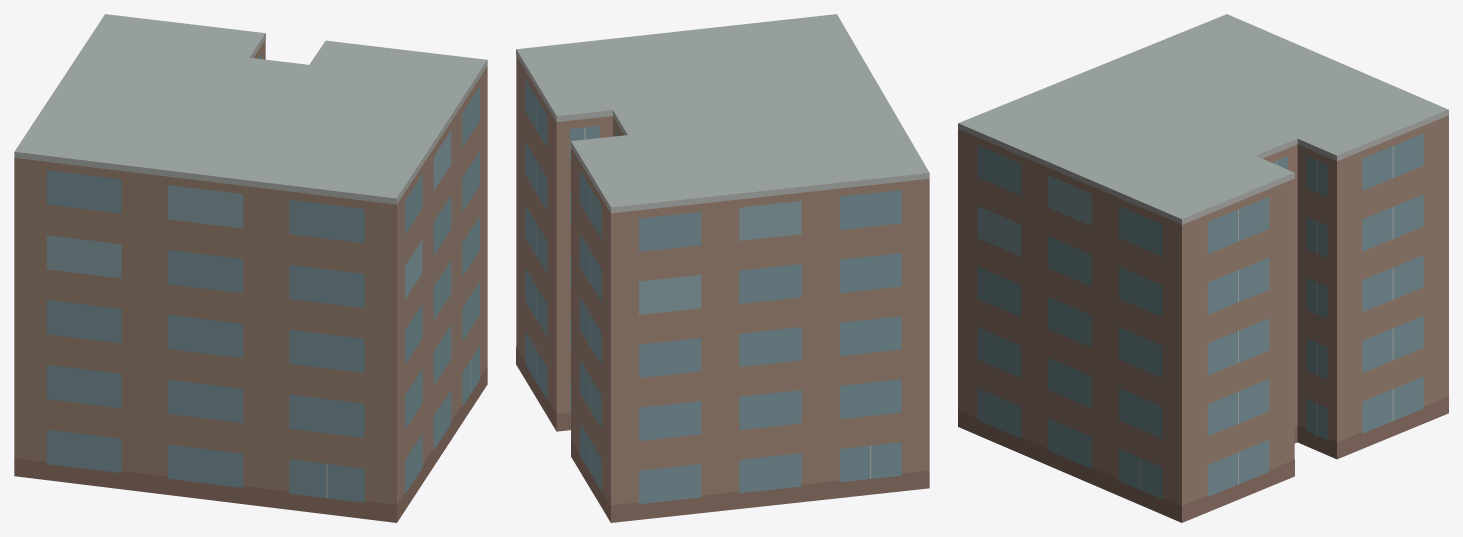
The model's file is survey-upis-32972736.glb.
3 views of the same model, side by side, from view 1: azimuth 30°, elevation 25°; view 2: azimuth 150°, elevation 25°; view 3: azimuth 270°, elevation 25° (orthographic). The views are drawn at different scales.
Visible parts, largest first — view 1: survey-upis-32972736.tmp; view 2: survey-upis-32972736.tmp; view 3: survey-upis-32972736.tmp.
Part boxes in pixels (left/top/right/bottom): survey-upis-32972736.tmp: left=14, top=14, right=487, bottom=522; survey-upis-32972736.tmp: left=516, top=14, right=929, bottom=522; survey-upis-32972736.tmp: left=958, top=14, right=1448, bottom=522.
Bounding box in the file's own units: 19 × 13.1 × 19.19.
